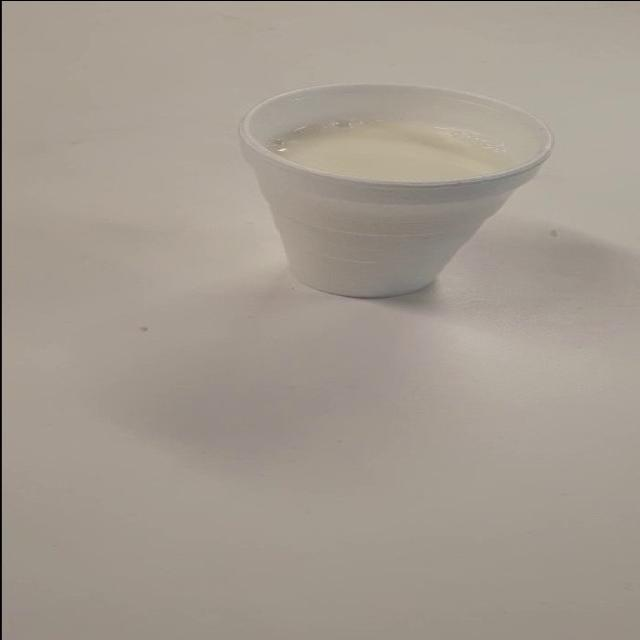Milk: (214, 70, 626, 333)
